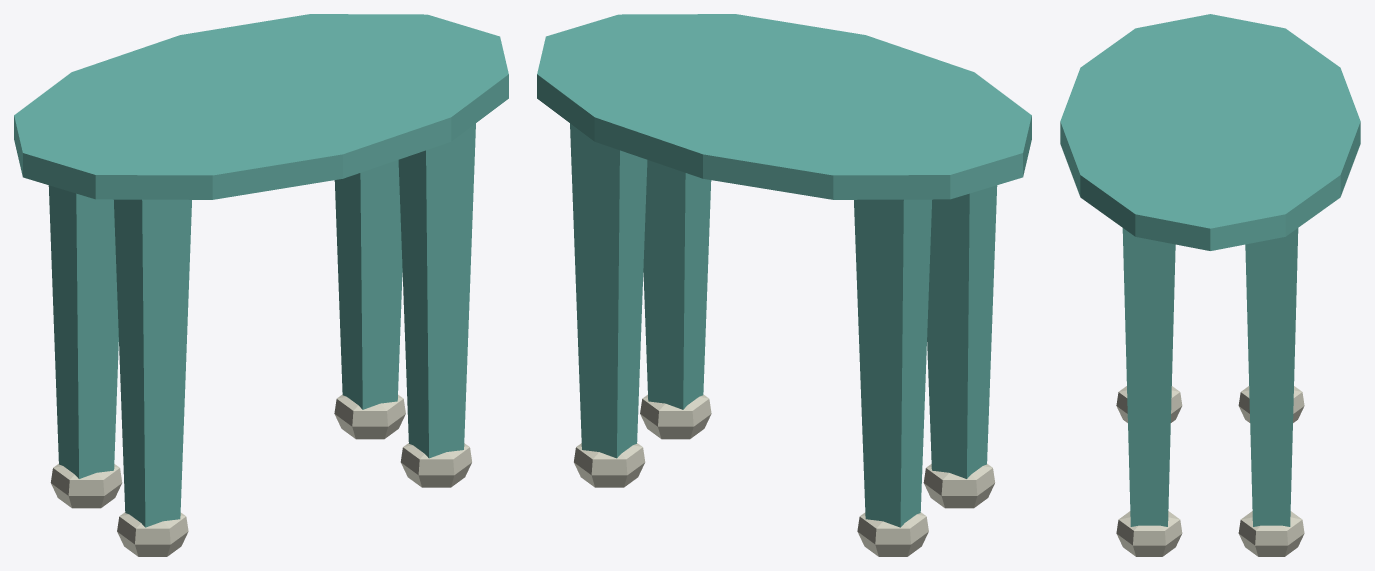
Rendered from Table.fbx.
3 renders of one model, left to right at view 1: azimuth 30°, elevation 25°; view 2: azimuth 150°, elevation 25°; view 3: azimuth 270°, elevation 25°, orthographic. The views are drawn at different scales.
Visible parts, largest first — view 1: 立方体; view 2: 立方体; view 3: 立方体.
Boxes of the visible parts, bbox=[...] form: 立方体: bbox=[14, 14, 508, 556]; 立方体: bbox=[537, 14, 1031, 556]; 立方体: bbox=[1060, 14, 1360, 556].
Bounding box in the file's own units: 1.41 × 1.13 × 0.8356.
